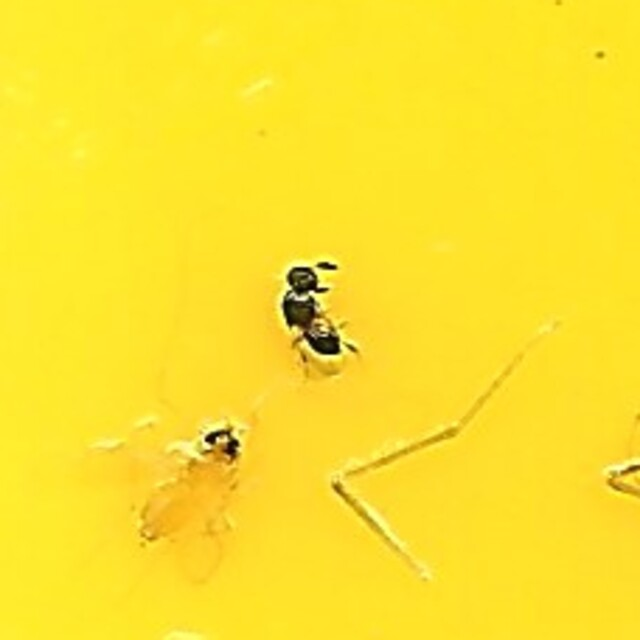Hymenoptera: (281, 257, 359, 383)
